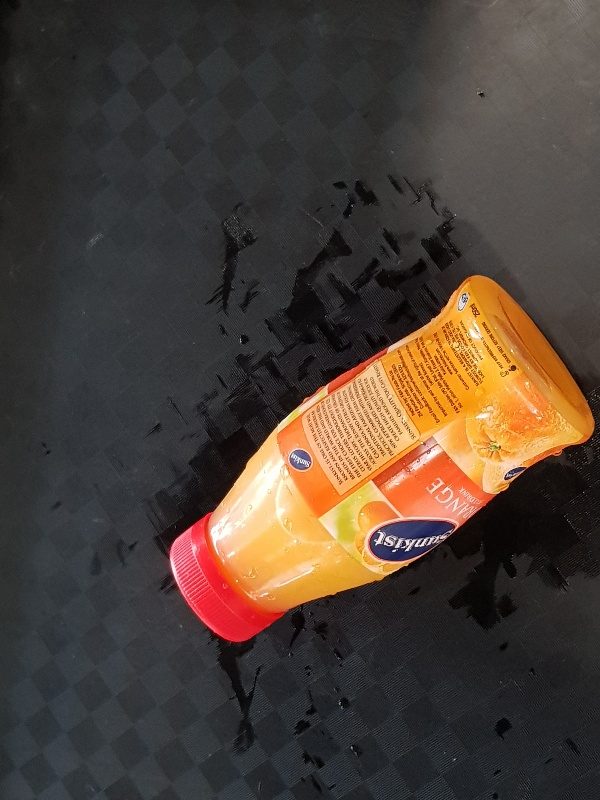Sunkist Orange Juice Drink: (170, 274, 594, 645)
